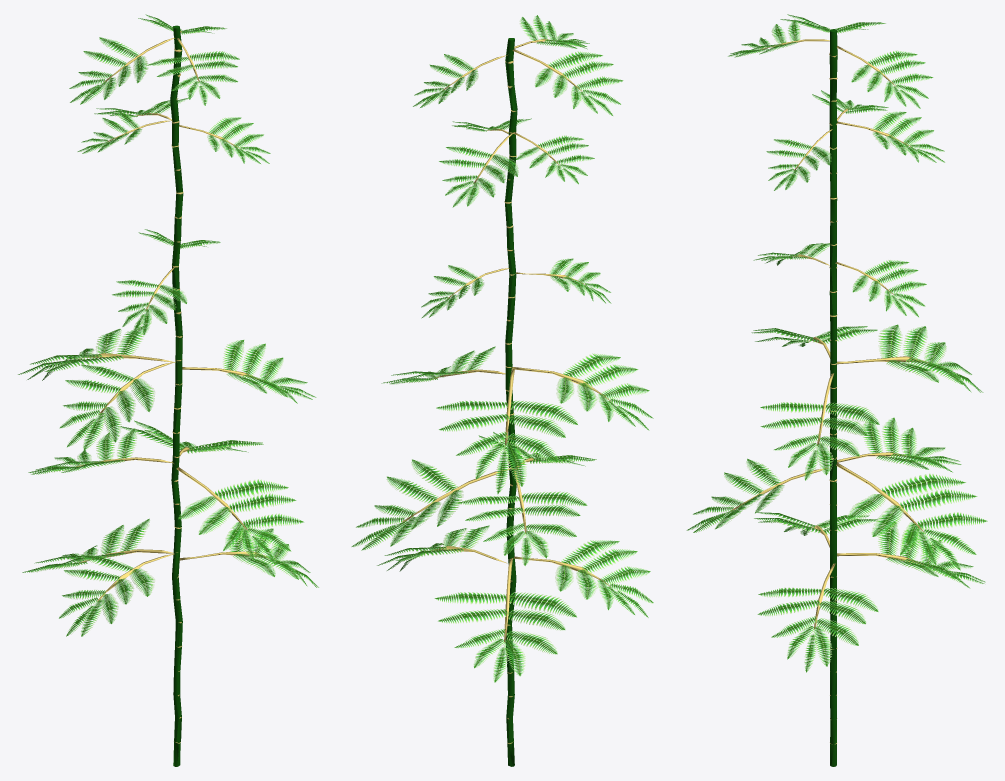
The model's file is bamboo1.fbx.
3 views of the same model, side by side, from view 1: azimuth 30°, elevation 25°; view 2: azimuth 150°, elevation 25°; view 3: azimuth 270°, elevation 25° (orthographic).
Parts seen in each view (by area): view 1: base, leaf, leaf.010, leaf.013, leaf.011, leaf.009, leaf.008, leaf.001, leaf.014, leaf.007, leaf.012, leaf.016 (+4 smaller); view 2: leaf.008, leaf.012, base, leaf.015, leaf.013, leaf.016, leaf.010, leaf.009, leaf.003, leaf.004, leaf.014, leaf.002 (+5 smaller); view 3: leaf.015, base, leaf.014, leaf.011, leaf.008, leaf.016, leaf, leaf.012, leaf.002, leaf.006, leaf.003, leaf.005 (+6 smaller).
Part boxes in pixels (box(x1,y1,x2,y2)): base: box(170, 25, 183, 766); leaf: box(176, 467, 304, 564); leaf.010: box(59, 361, 175, 450); leaf.013: box(59, 553, 174, 636); leaf.011: box(182, 340, 316, 403); leaf.009: box(69, 37, 174, 104); leaf.008: box(18, 324, 175, 380); leaf.001: box(148, 38, 239, 105); leaf.014: box(179, 524, 318, 587); leaf.007: box(112, 267, 187, 337); leaf.012: box(22, 518, 173, 572); leaf.016: box(28, 428, 172, 474); leaf.008: box(436, 368, 577, 494); leaf.012: box(434, 558, 576, 682); base: box(504, 38, 517, 766); leaf.015: box(351, 459, 514, 550); leaf.013: box(513, 540, 653, 617); leaf.016: box(458, 467, 587, 565); leaf.010: box(512, 353, 653, 430); leaf.009: box(512, 49, 623, 115); leaf.003: box(439, 132, 518, 207); leaf.004: box(513, 132, 594, 184); leaf.014: box(377, 525, 507, 571); leaf.002: box(413, 54, 507, 107); leaf.015: box(836, 462, 987, 570); base: box(829, 29, 837, 766); leaf.014: box(757, 563, 878, 672); leaf.011: box(760, 373, 879, 480); leaf.008: box(837, 324, 983, 392); leaf.016: box(837, 417, 961, 472); leaf: box(686, 458, 830, 532); leaf.012: box(837, 521, 985, 588); leaf.002: box(837, 46, 933, 108); leaf.006: box(835, 260, 926, 317); leaf.003: box(837, 111, 944, 162); leaf.005: box(766, 129, 832, 190).
Bounding box in the file's own units: 874 × 2385 × 899.
